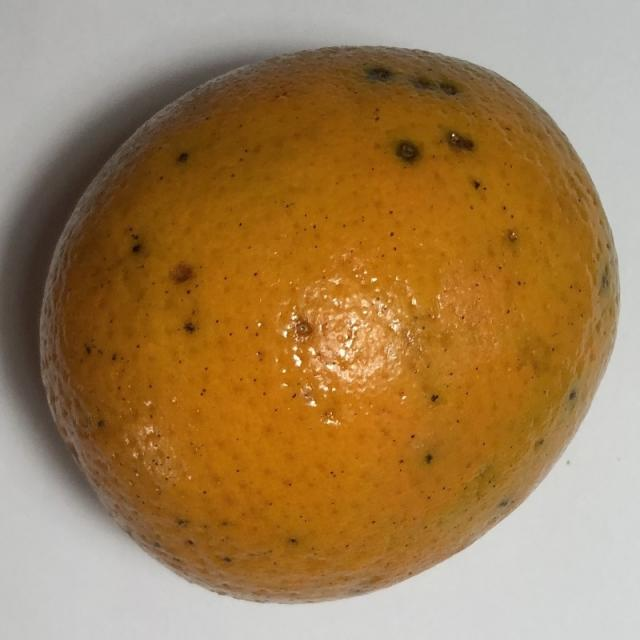blackspot: (30, 34, 626, 617)
